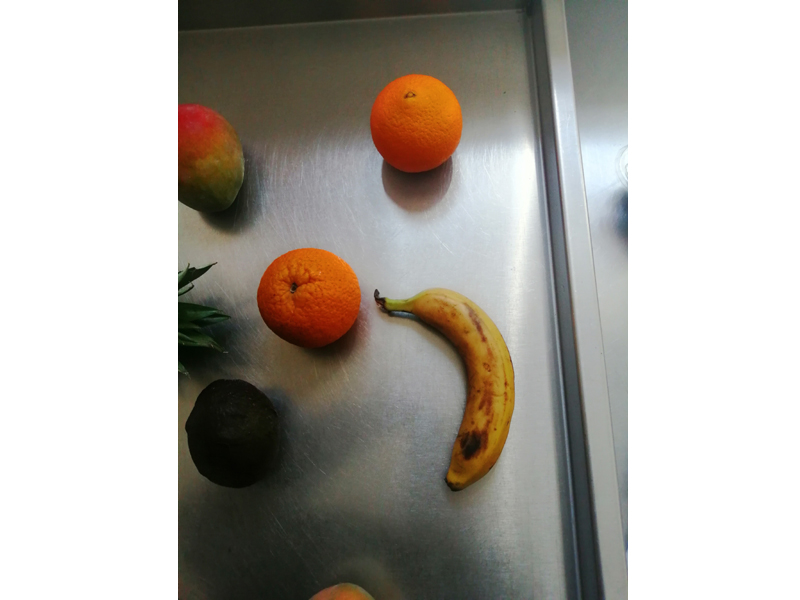avocado: (185, 374, 290, 494)
banana: (370, 276, 519, 508)
orange: (242, 238, 367, 362), (367, 60, 467, 189)
